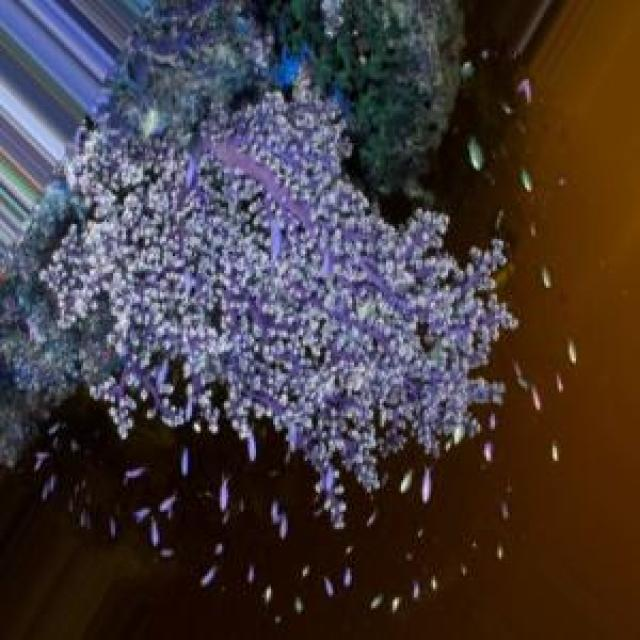Healthy: (1, 1, 515, 526)
